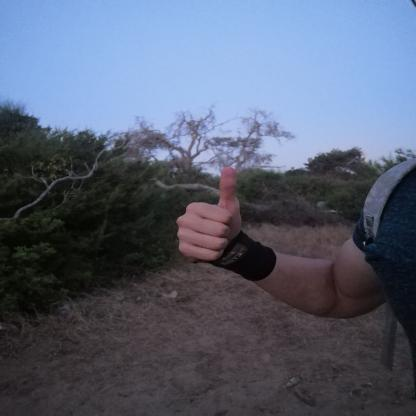ALIF: (166, 160, 254, 272)
